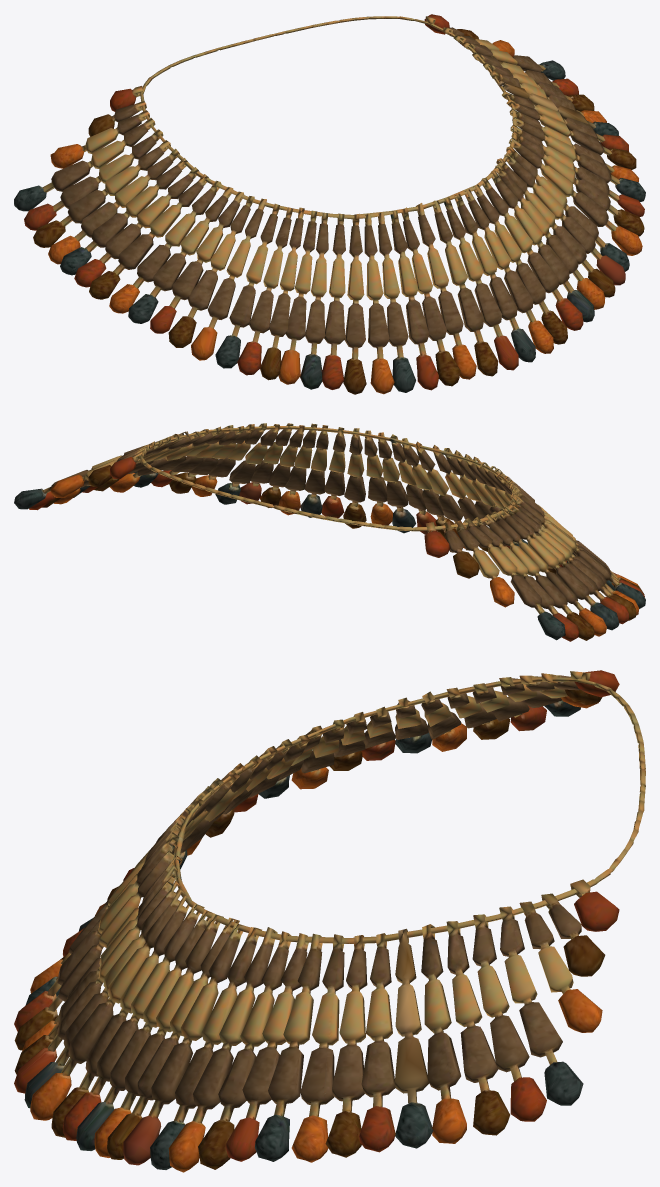
Rendered from necklace-egyptian.glb.
3 views of the same model, one above another, from view 1: azimuth 30°, elevation 25°; view 2: azimuth 150°, elevation 25°; view 3: azimuth 270°, elevation 25° (orthographic). The views are drawn at different scales.
Parts seen in each view (by area): view 1: Object_2; view 2: Object_2; view 3: Object_2.
Boxes of the visible parts, box(x1,y1,x2,y2) form: Object_2: box(14, 14, 645, 394); Object_2: box(14, 423, 645, 641); Object_2: box(14, 670, 645, 1172).
Bounding box in the file's own units: 4.69 × 1.57 × 3.07.
Materials: 1 (1 with a texture image).
